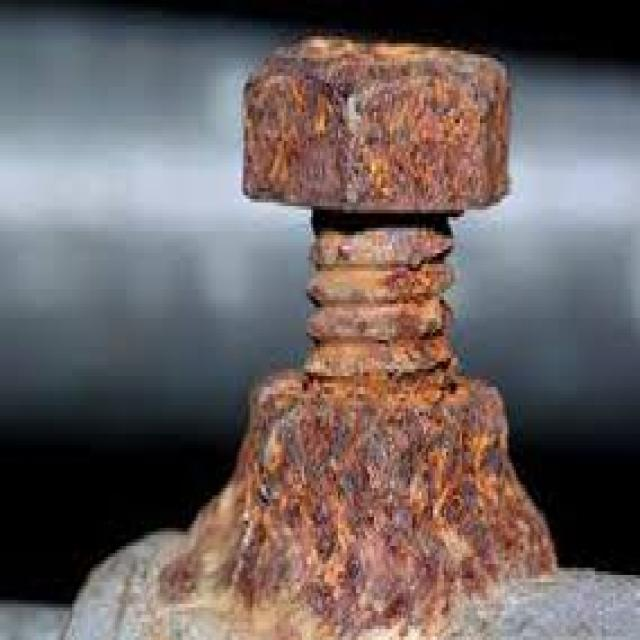corrosion: (154, 36, 562, 640)
